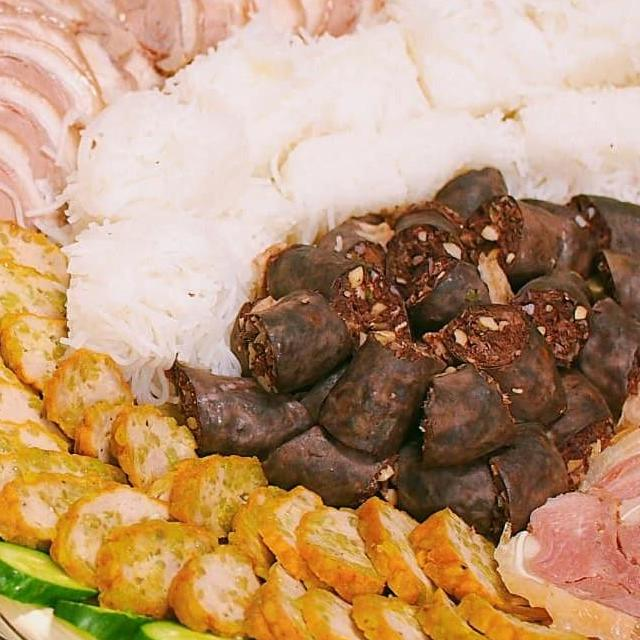bun: (46, 0, 640, 406)
bun dau: (0, 0, 640, 640)
cha com: (222, 470, 550, 624), (162, 534, 602, 640), (0, 466, 228, 624), (0, 317, 133, 551), (150, 441, 284, 544), (28, 341, 138, 456), (0, 207, 80, 340), (105, 392, 202, 499), (0, 304, 71, 384)
doi sun: (143, 155, 640, 543)
thit heo: (475, 440, 640, 640), (0, 0, 211, 119), (0, 22, 115, 188), (80, 0, 344, 66), (229, 0, 582, 46), (0, 101, 62, 247)
